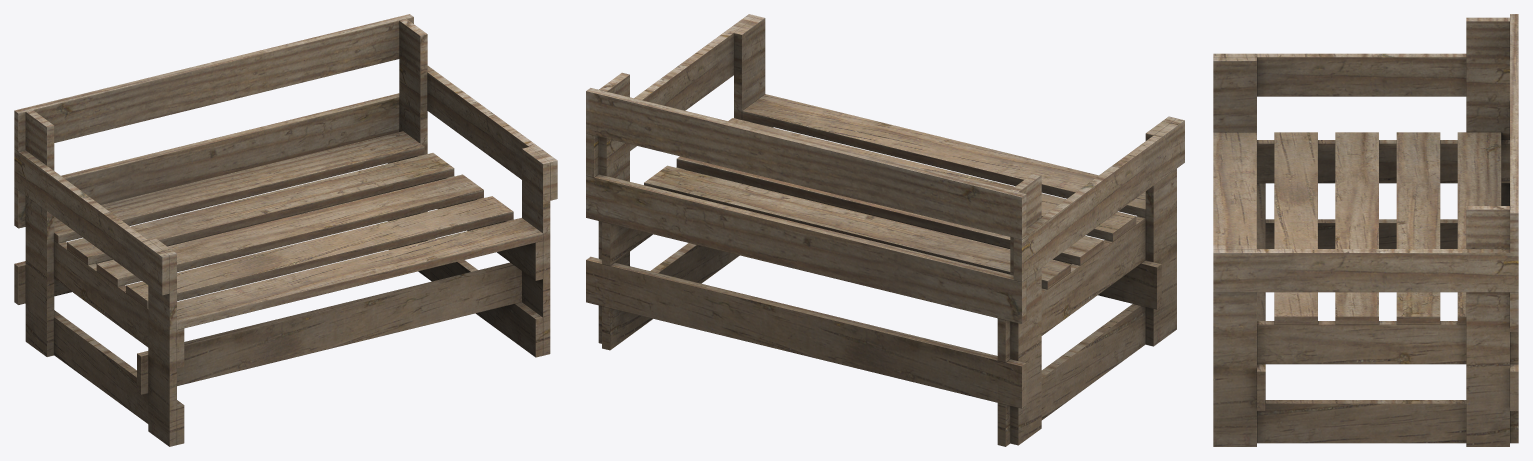
The model's file is pallet_couch.glb.
The picture shows the model from 3 angles, left to right: view 1: azimuth 30°, elevation 25°; view 2: azimuth 150°, elevation 25°; view 3: azimuth 270°, elevation 25°; orthographic projection. The views are drawn at different scales.
Visible parts, largest first — view 1: pallet_couch; view 2: pallet_couch; view 3: pallet_couch.
Boxes of the visible parts, x1,y1,x2,y2 form: pallet_couch: (14,14,557,446); pallet_couch: (586,14,1184,446); pallet_couch: (1213,14,1518,446).
Size of the model in its own units: 1.76 by 0.9772 by 1.14.
Materials: 1 (1 with a texture image).
